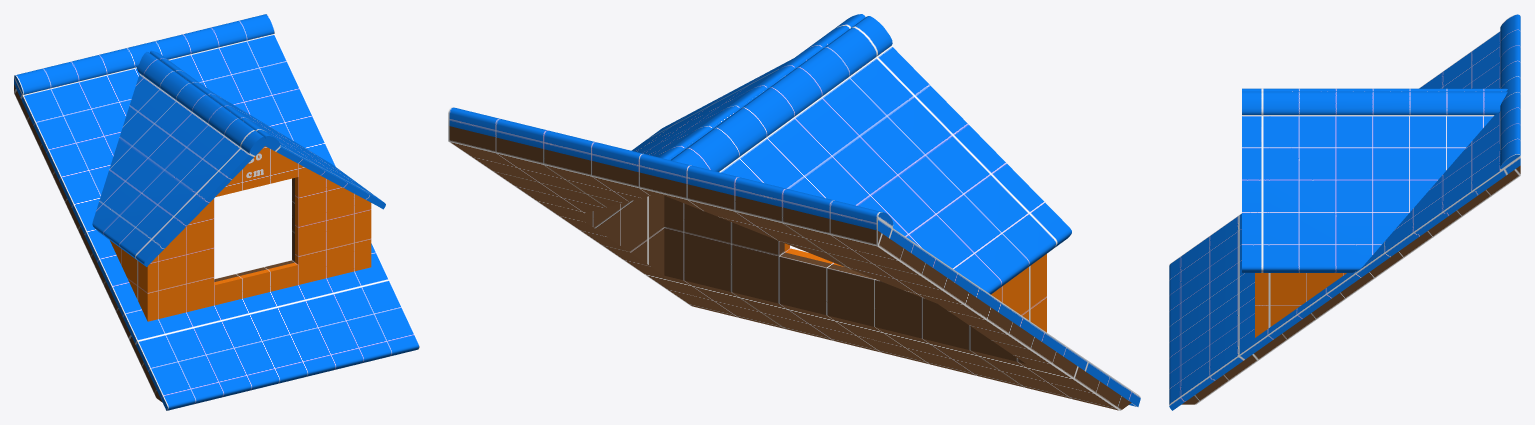
The model's file is M01Roof01_5WindowTypeC.FBX.
3 renders of one model, left to right at view 1: azimuth 30°, elevation 25°; view 2: azimuth 150°, elevation 25°; view 3: azimuth 270°, elevation 25°, orthographic. The views are drawn at different scales.
Visible parts, largest first — view 1: M01Roof01_5WindowTypeC; view 2: M01Roof01_5WindowTypeC; view 3: M01Roof01_5WindowTypeC.
Part boxes in pixels (bbox=[...]): M01Roof01_5WindowTypeC: bbox=[14, 14, 419, 410]; M01Roof01_5WindowTypeC: bbox=[448, 14, 1140, 410]; M01Roof01_5WindowTypeC: bbox=[1169, 14, 1520, 410].
Size of what is drawn, in the model's own units: 4.5 by 3.84 by 4.76.
